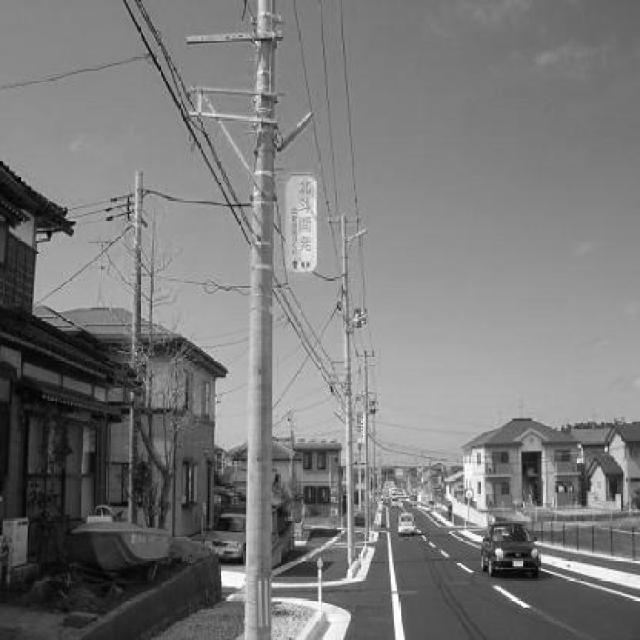Pole: (244, 0, 277, 639), (127, 172, 142, 522)
